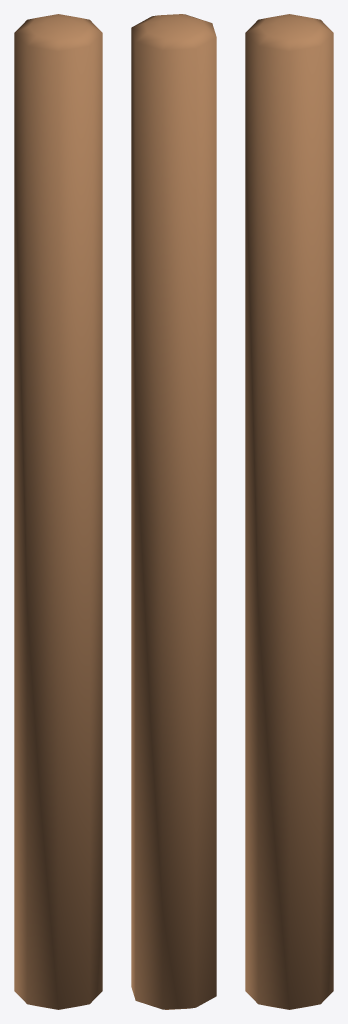
The model's file is SM_Post.fbx.
3 views of the same model, side by side, from view 1: azimuth 90°, elevation 25°; view 2: azimuth 210°, elevation 25°; view 3: azimuth 270°, elevation 25° (orthographic).
Visible parts, largest first — view 1: SM_Post; view 2: SM_Post; view 3: SM_Post.
Part boxes in pixels (x1,y1,x2,y2): SM_Post: (14,14,102,1009); SM_Post: (131,14,216,1009); SM_Post: (245,14,333,1009).
Bounding box in the file's own units: 0.4332 × 5.28 × 0.4332.
